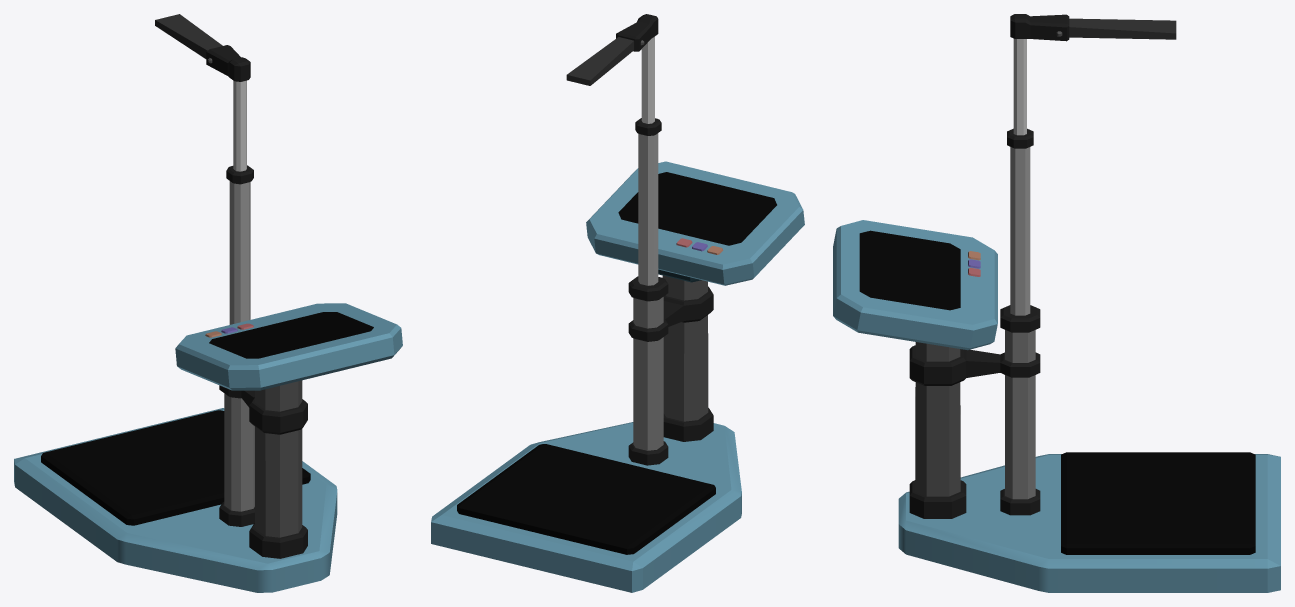
The model's file is Weighing Scale 01.fbx.
The picture shows the model from 3 angles, left to right: view 1: azimuth 30°, elevation 25°; view 2: azimuth 150°, elevation 25°; view 3: azimuth 270°, elevation 25°; orthographic projection. The views are drawn at different scales.
Visible parts, largest first — view 1: Weighing_Scale_01; view 2: Weighing_Scale_01; view 3: Weighing_Scale_01.
Part boxes in pixels (<box>): Weighing_Scale_01: <box>14,14,402,592</box>; Weighing_Scale_01: <box>431,14,804,592</box>; Weighing_Scale_01: <box>833,14,1280,592</box>.
Bounding box in the file's own units: 91.52 × 193 × 151.
